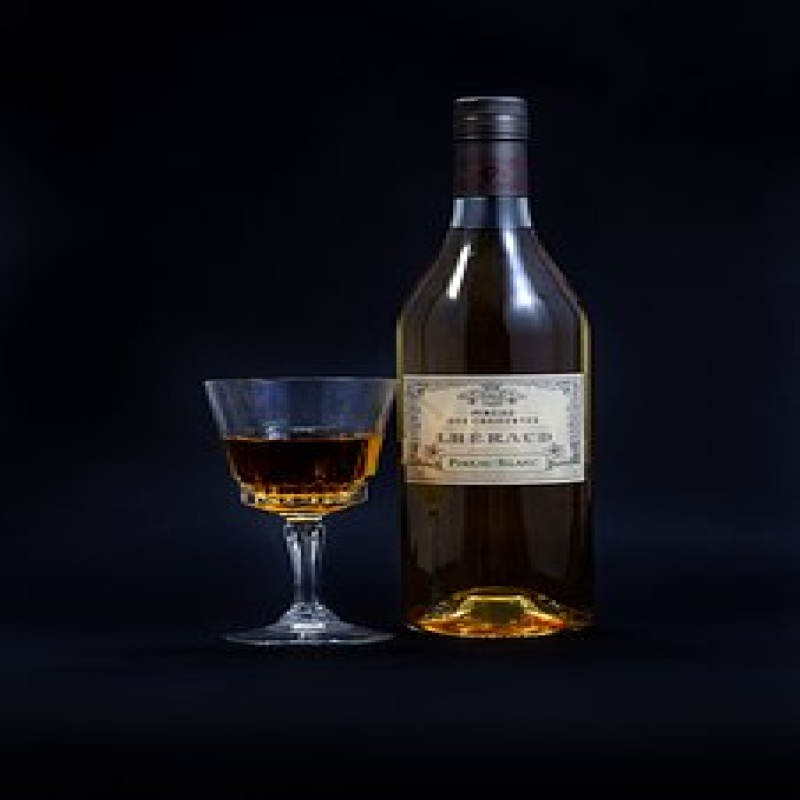wine: (395, 96, 605, 639)
